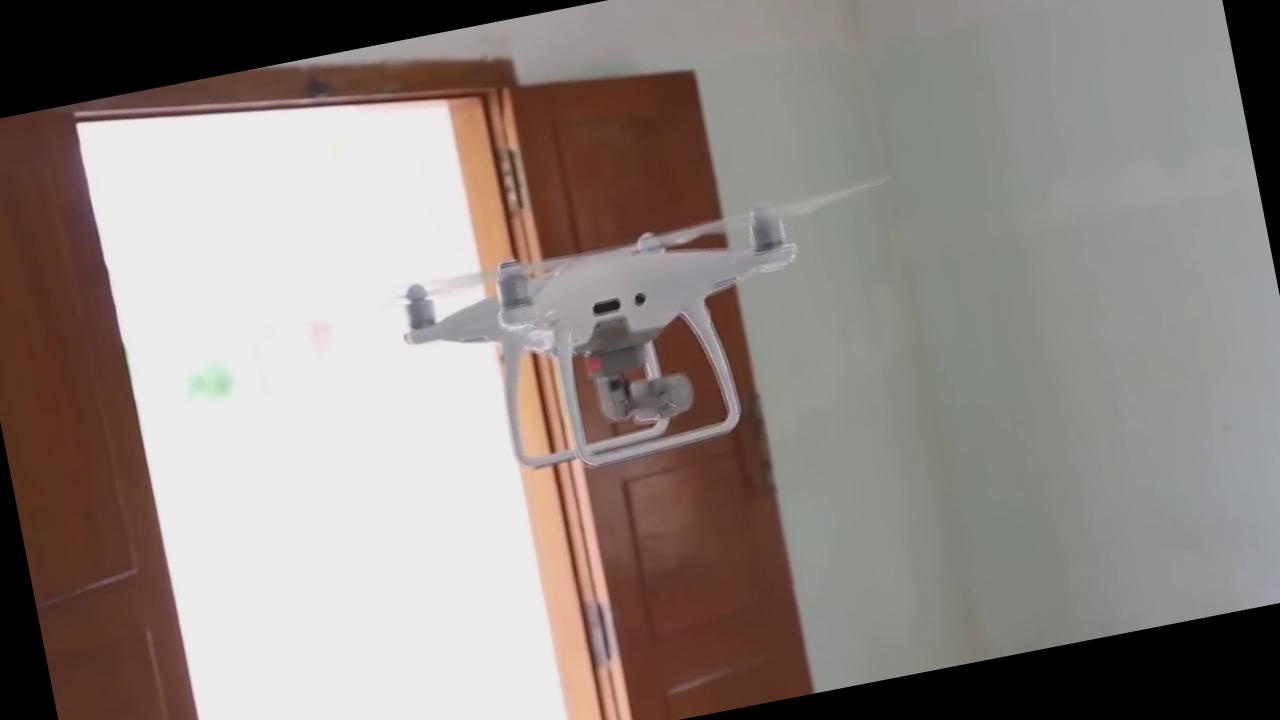drone: (345, 148, 972, 546)
